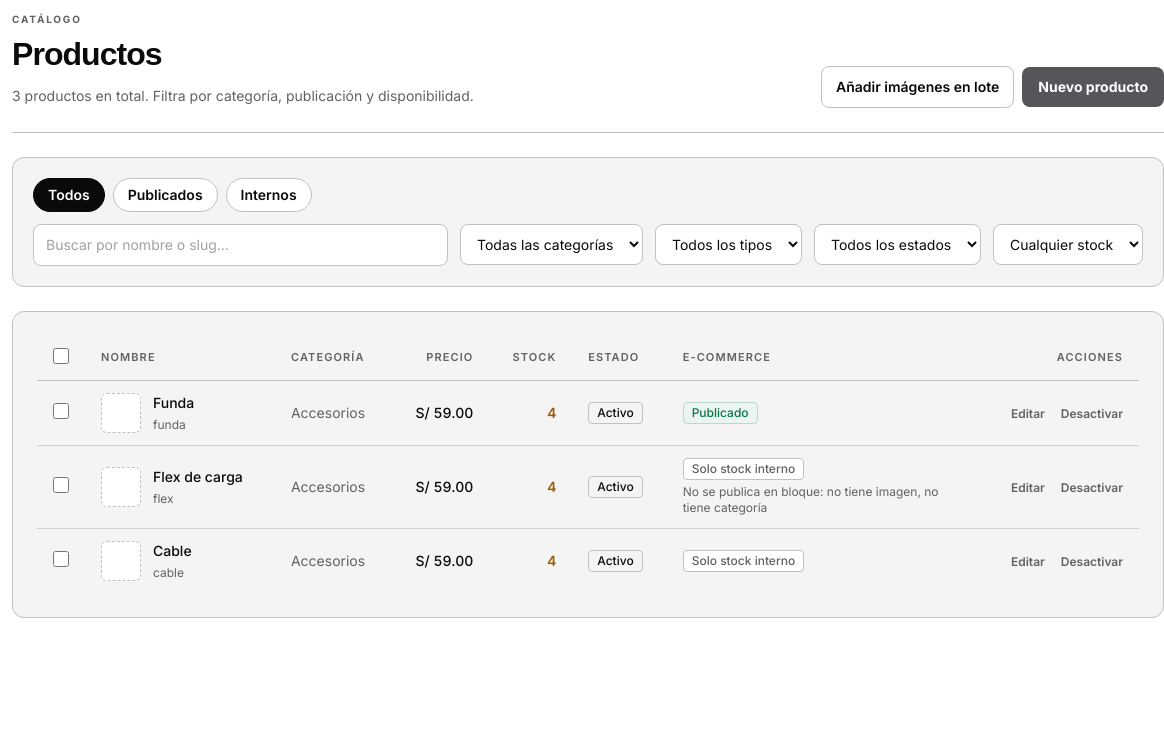
la selección › escribir en la búsqueda también la quita
The width and height of the screenshot is (1164, 732).
Check: the link "Funda" is shown, box [153,394,194,411]
Click the checkbox named "Seleccionar Funda" at (61, 411), box [53,403,69,419]
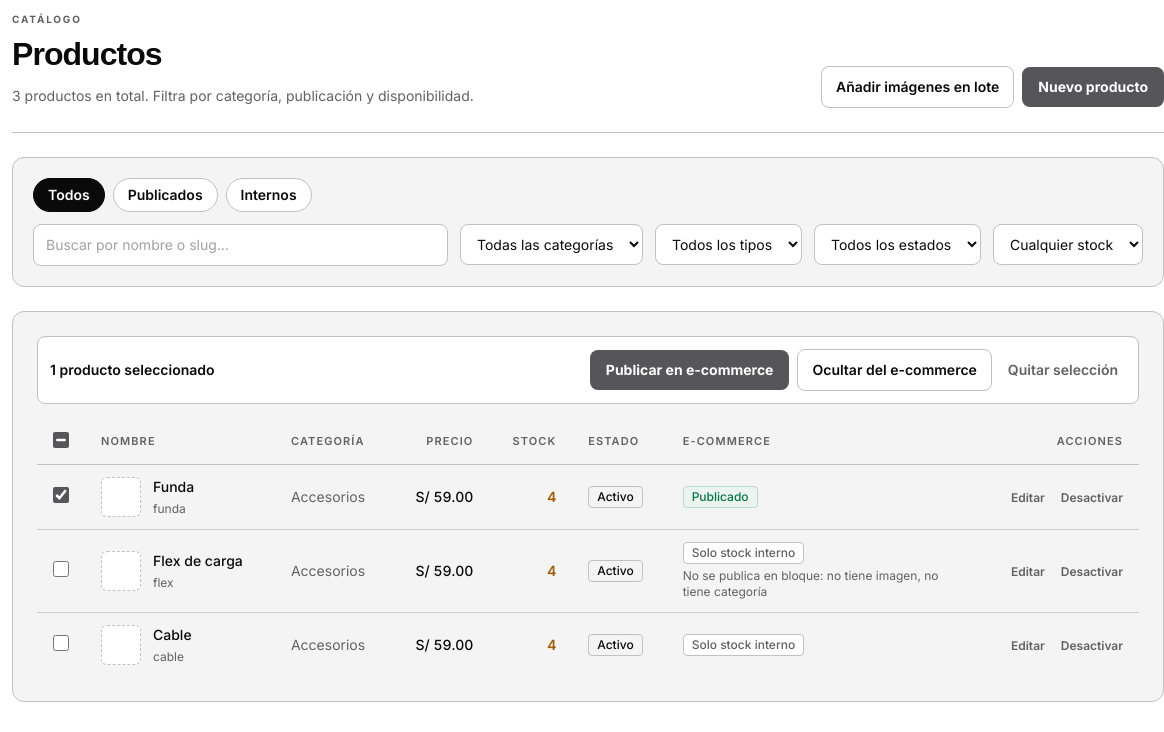
Type "cable" into the search field at (240, 245), box [33,224,448,266]
Wait 400 ms
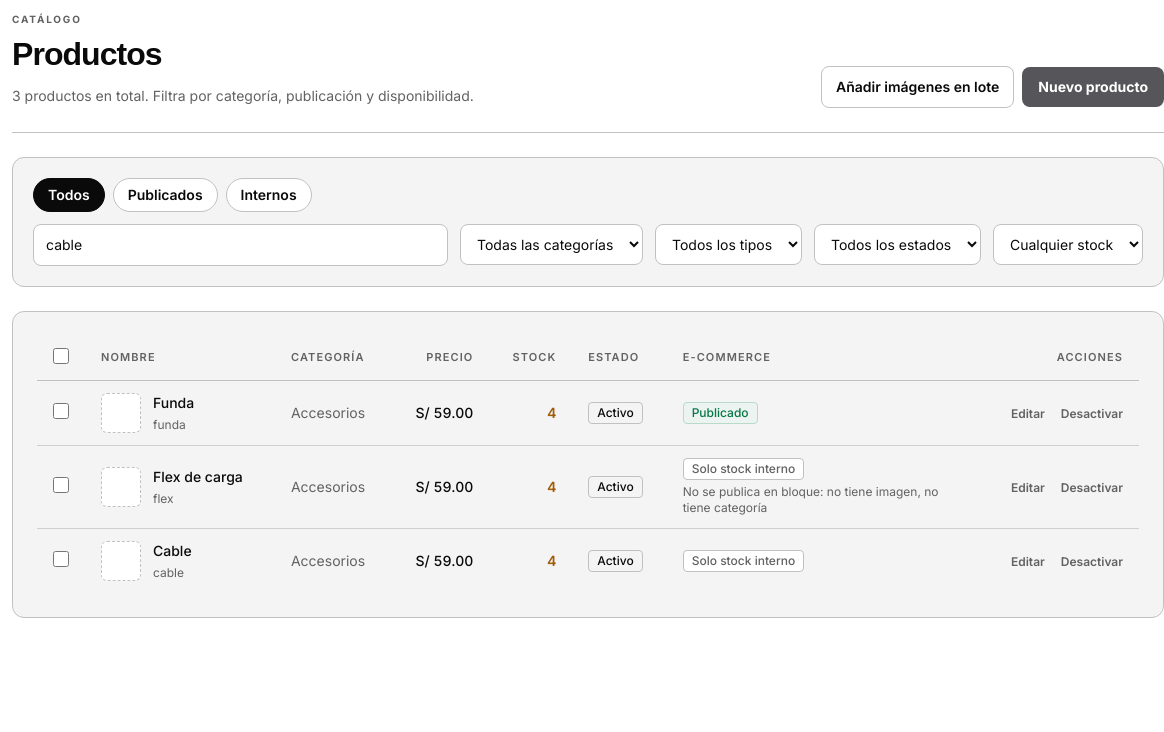
Check: the text "cable" is shown, box [153,565,184,580]
Check: the text "seleccionado" is gone
